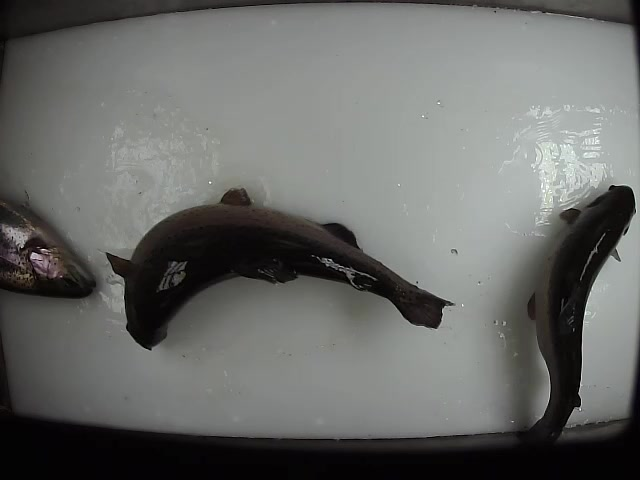fish: (106, 187, 456, 350), (516, 183, 637, 446)
